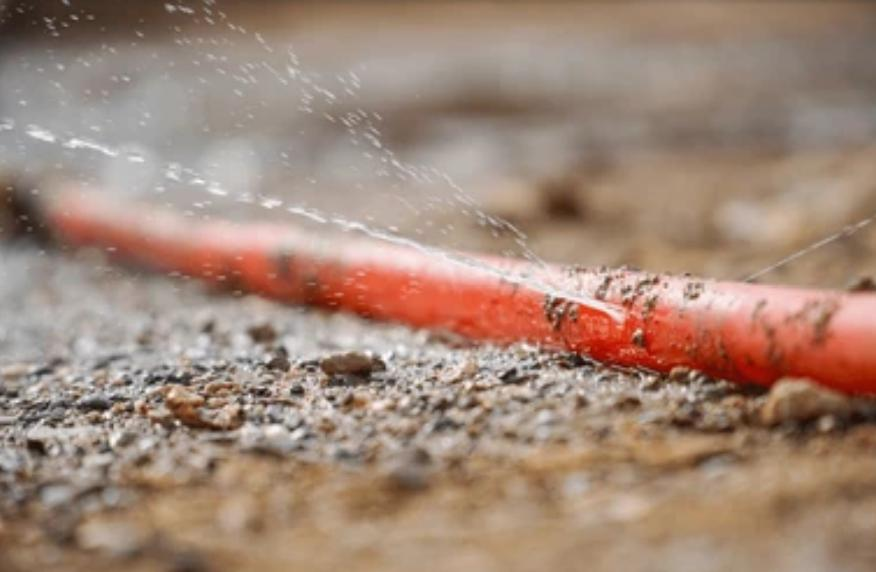pipe burst: (2, 116, 634, 325)
